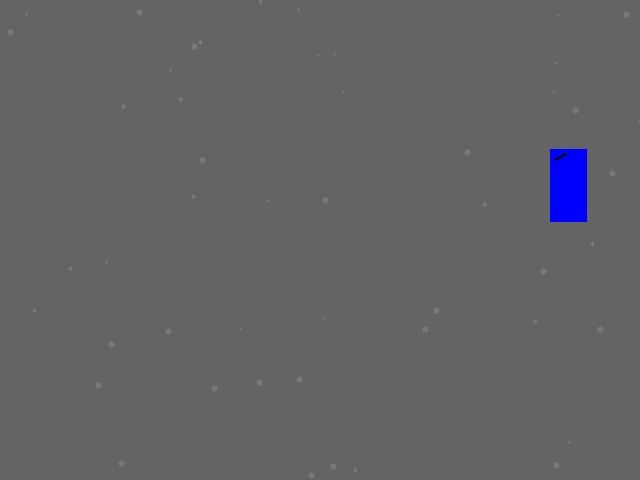motorcycle: (550, 149, 586, 221)
